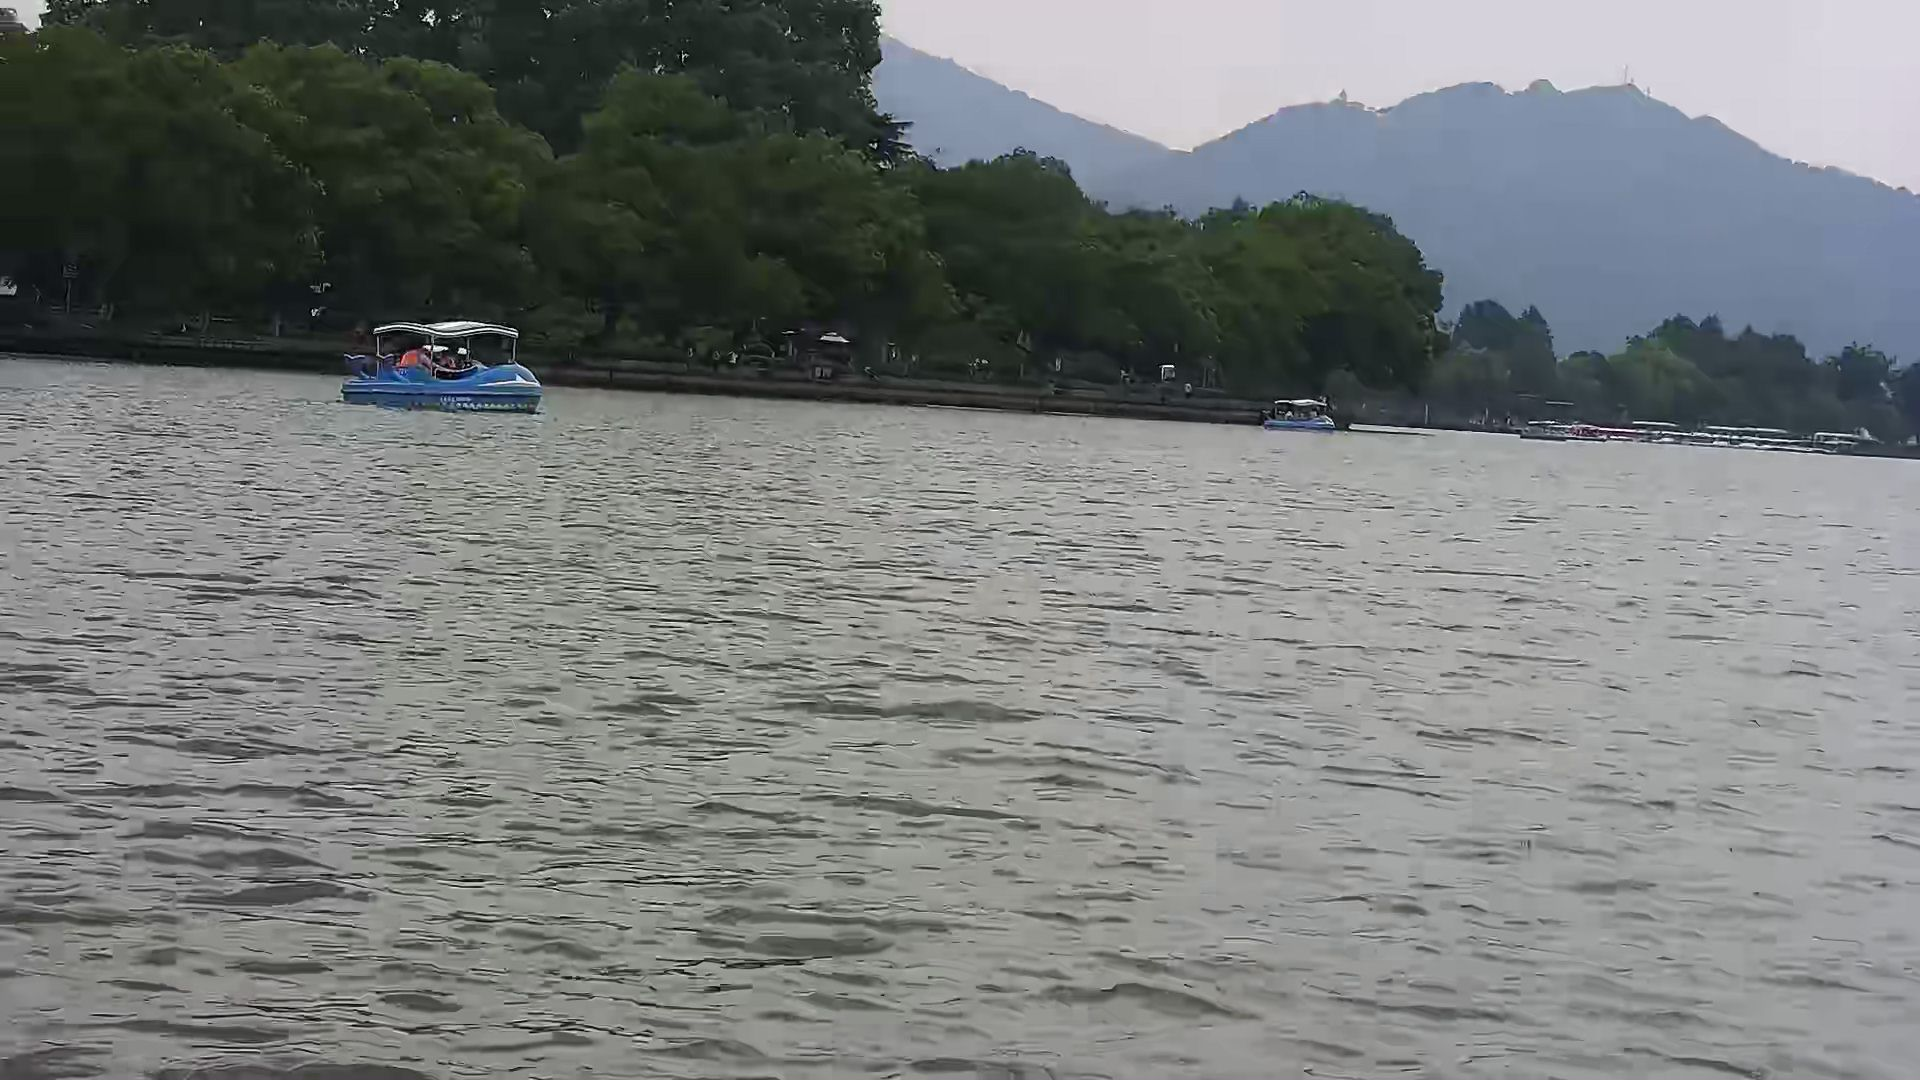boat: (331, 314, 547, 421), (1253, 394, 1337, 434)
